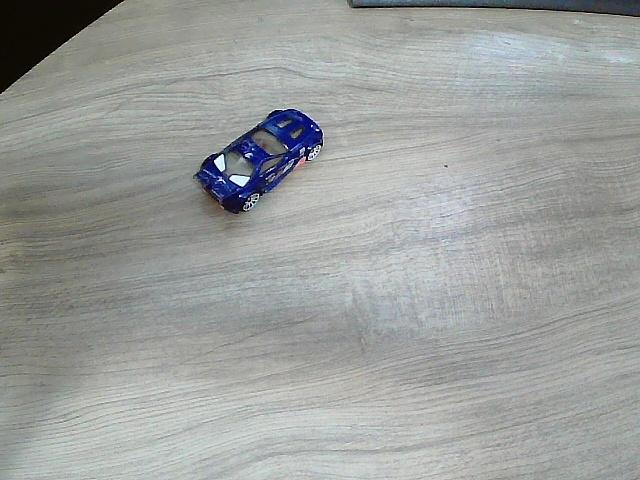Carro: (195, 110, 324, 214)
